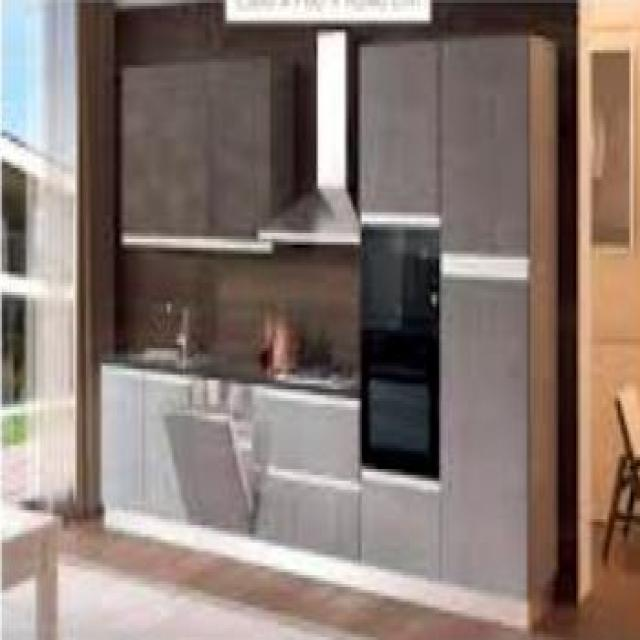dishwasher: (161, 383, 258, 540)
